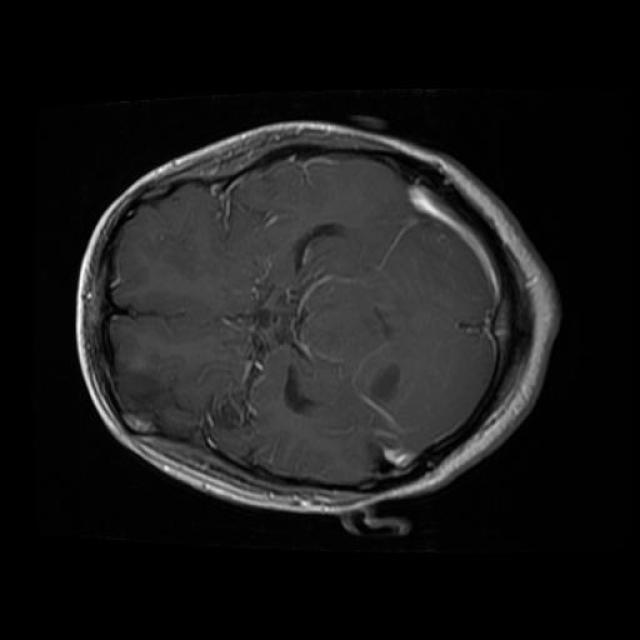Glioma: (102, 358, 240, 449), (210, 163, 309, 231), (265, 213, 276, 226)
